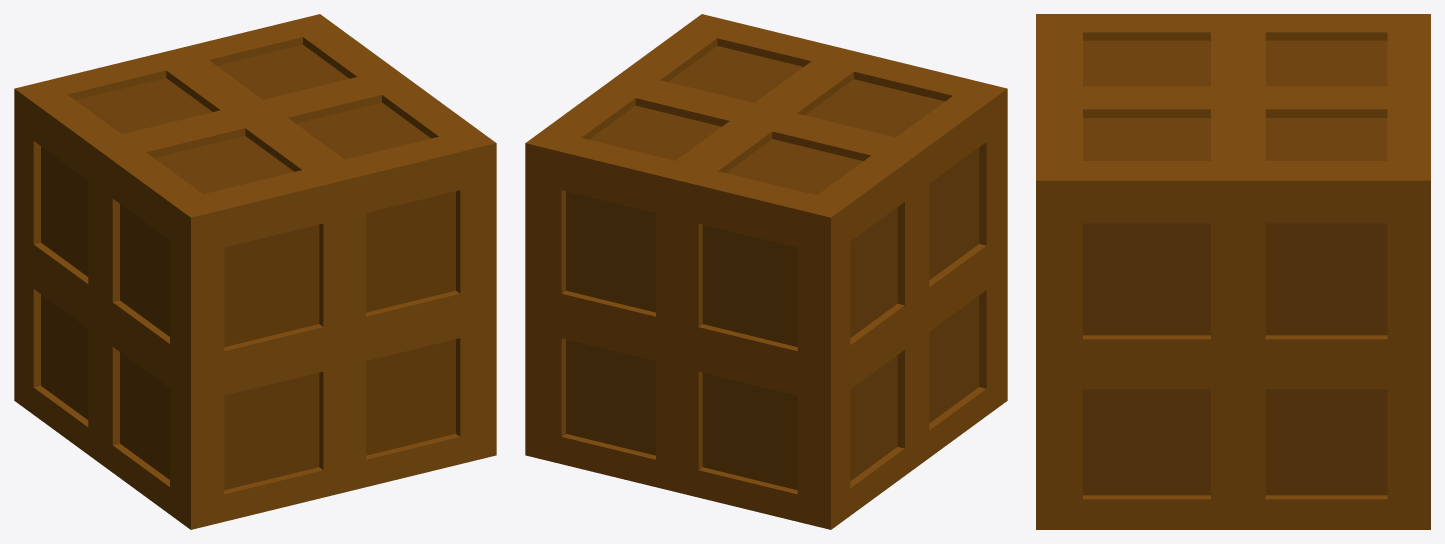
Rendered from Crate_Textured.fbx.
3 views of the same model, side by side, from view 1: azimuth 30°, elevation 25°; view 2: azimuth 150°, elevation 25°; view 3: azimuth 270°, elevation 25° (orthographic). The views are drawn at different scales.
Parts seen in each view (by area): view 1: pCube1; view 2: pCube1; view 3: pCube1.
Boxes of the visible parts, box(x1,y1,x2,y2) form: pCube1: box(14, 14, 496, 529); pCube1: box(525, 14, 1007, 529); pCube1: box(1036, 14, 1430, 529).
Bounding box in the file's own units: 2.1 × 2.05 × 2.1.
